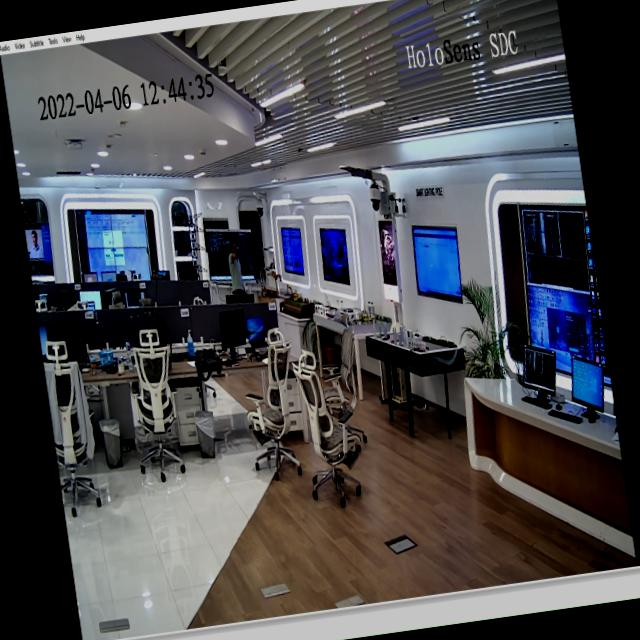long weapon: (228, 242, 246, 266)
